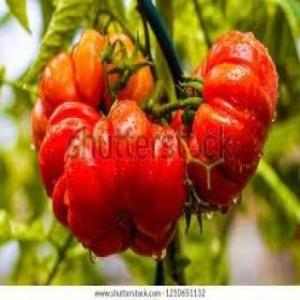bell_pepper: (37, 100, 195, 264), (170, 32, 282, 212)
